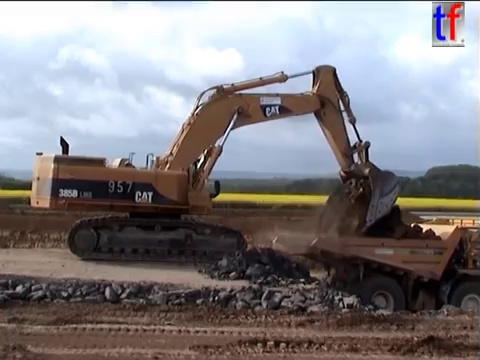excavator: (29, 62, 405, 266)
truck: (270, 213, 480, 333)
